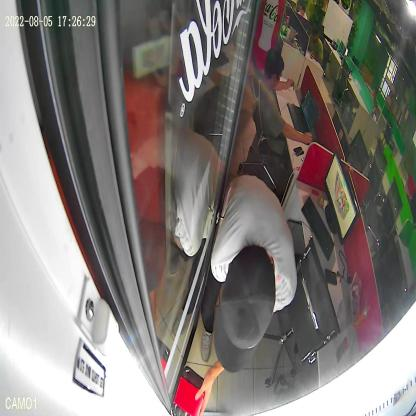red: (172, 364, 206, 416)
